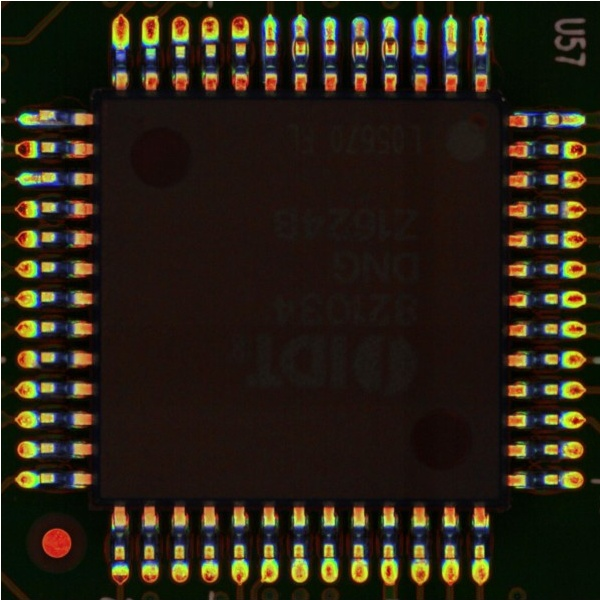Bad_podu: (415, 28, 425, 49), (475, 30, 486, 48), (28, 173, 51, 180), (324, 32, 333, 49), (553, 113, 567, 123), (29, 114, 43, 122), (265, 34, 274, 44)
Bad_qiaojiao: (290, 39, 295, 62), (393, 39, 398, 59), (304, 39, 309, 59), (380, 40, 384, 62), (364, 39, 368, 61), (351, 40, 354, 62)
